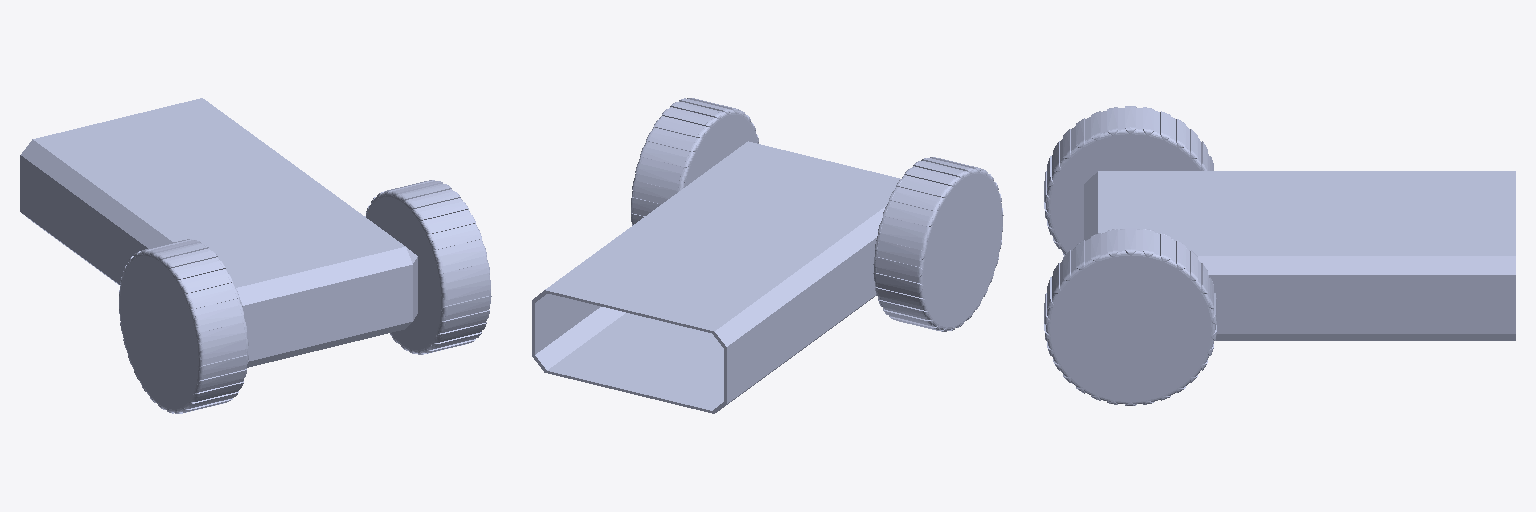
The robot description file, URDF, robot "balancebot":
<?xml version="1.0" encoding="utf-8"?>
<robot name="balancebot">
  <link name="base_link">
    <inertial>
      <origin xyz="-0.000213  -0.337033 0.000683" rpy="0 0 0" />
      <mass value="1.083032" />
      <inertia ixx="0.002560" ixy="0" ixz="0" iyy="0.001089" iyz="0" izz="0.003229" />
    </inertial>
    <visual>
      <origin xyz="0 0 0" rpy="0 0 0" />
      <geometry>
        <mesh filename="meshes/base_link.STL" />
      </geometry>
      <material name="">
        <color rgba="0.792 0.820 0.933 1" />
      </material>
    </visual>
    <collision>
      <origin xyz="0 0 0" rpy="0 0 0" />
      <geometry>
        <mesh filename="meshes/base_link.STL" />
      </geometry>
    </collision>
  </link>

  <link name="L">
    <inertial>
      <origin xyz="0 -0.020064 0" rpy="0 0 0" />
      <mass value="0.444958" />
      <inertia ixx="0.000454" ixy="0" ixz="0" iyy="0.000789" iyz="0" izz="0.000454" />
    </inertial>
    <visual>
      <origin xyz="0 0 0" rpy="0 0 0" />
      <geometry>
        <mesh filename="meshes/L.STL" />
      </geometry>
      <material name="">
        <color rgba="0.792 0.820 0.933 1" />
      </material>
    </visual>
    <collision>
      <origin xyz="0 0 0" rpy="0 0 0" />
      <geometry>
        <mesh filename="meshes/L.STL" />
      </geometry>
    </collision>
  </link>

  <joint name="L_j" type="continuous">
    <origin xyz="0.079737 -0.445274 0.000683" rpy="1.5708 -1.5708 0" />
    <parent link="base_link" />
    <child link="L" />
    <axis xyz="0 1 0" />
  </joint>

  <link name="R">
    <inertial>
      <origin xyz="0 -0.020064 0" rpy="0 0 0" />
      <mass value="0.444958" />
      <inertia ixx="0.000454" ixy="0" ixz="0" iyy="0.000789" iyz="0" izz="0.000454" />
    </inertial>
    <visual>
      <origin xyz="0 0 0" rpy="0 0 0" />
      <geometry>
        <mesh filename="meshes/R.STL" />
      </geometry>
      <material name="">
        <color rgba="0.792 0.820 0.933 1" />
      </material>
    </visual>
    <collision>
      <origin xyz="0 0 0" rpy="0 0 0" />
      <geometry>
        <mesh filename="meshes/R.STL" />
      </geometry>
    </collision>
  </link>

  <joint name="R_j" type="continuous">
    <origin xyz="-0.080163 -0.445274 0.000683" rpy="1.5708 1.5708 0" />
    <parent link="base_link" />
    <child link="R" />
    <axis xyz="0 1 0" />
  </joint>
</robot>


--- Render facts (derived) ---
Views: 3 orthographic renders of the robot side by side, from view 1: azimuth 30°, elevation 25°; view 2: azimuth 150°, elevation 25°; view 3: azimuth 270°, elevation 25°.
Model balancebot with 3 links and 2 joints (2 continuous), rooted at base_link, posed all joints at 0.
Links seen in each view (by area): view 1: base_link, R, L; view 2: base_link, R, L; view 3: base_link, L, R.
Boxes of the visible links, x1=… form: base_link: x1=20, y1=98, x2=417, y2=367; R: x1=119, y1=239, x2=248, y2=413; L: x1=365, y1=180, x2=491, y2=354; base_link: x1=532, y1=141, x2=899, y2=413; R: x1=873, y1=157, x2=1003, y2=331; L: x1=631, y1=98, x2=758, y2=225; base_link: x1=1084, y1=171, x2=1515, y2=340; L: x1=1044, y1=228, x2=1216, y2=405; R: x1=1044, y1=106, x2=1213, y2=255.
Size in the robot's own frame: 0.24 by 0.3274 by 0.12 metres.
3 mesh visuals loaded from 3 distinct referenced files (3 binary STL).